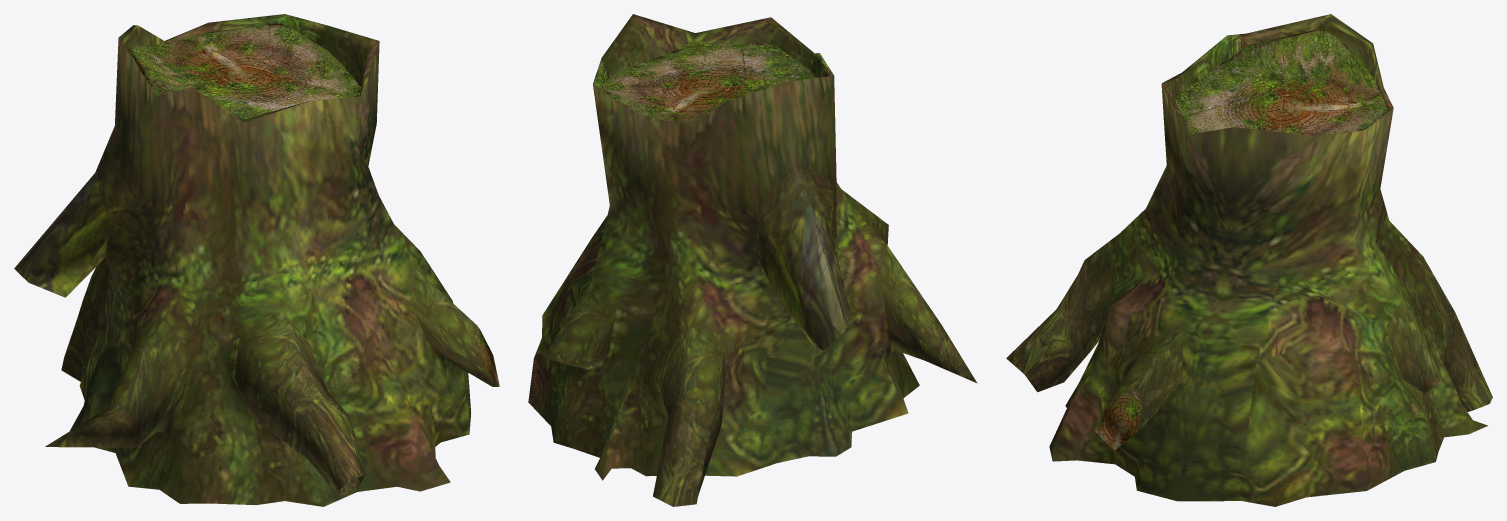
File: S_Tree_Green062.FBX
3 views of the same model, side by side, from view 1: azimuth 30°, elevation 25°; view 2: azimuth 150°, elevation 25°; view 3: azimuth 270°, elevation 25° (orthographic). The views are drawn at different scales.
Parts seen in each view (by area): view 1: S_Tree_Green062; view 2: S_Tree_Green062; view 3: S_Tree_Green062.
Part boxes in pixels (x1,y1,x2,y2): S_Tree_Green062: [14, 14, 499, 506]; S_Tree_Green062: [528, 14, 977, 506]; S_Tree_Green062: [1006, 14, 1492, 506].
Bounding box in the file's own units: 298 × 315 × 269.
